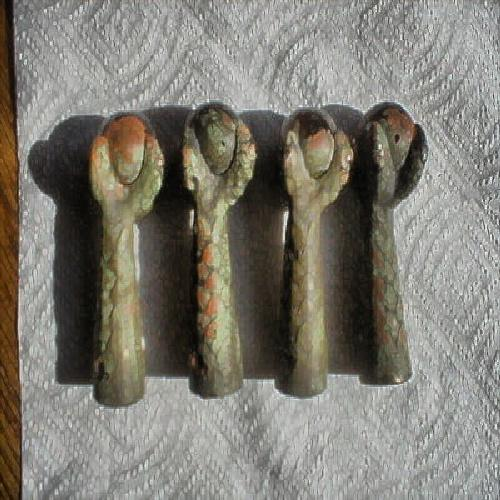table: (37, 27, 481, 453)
